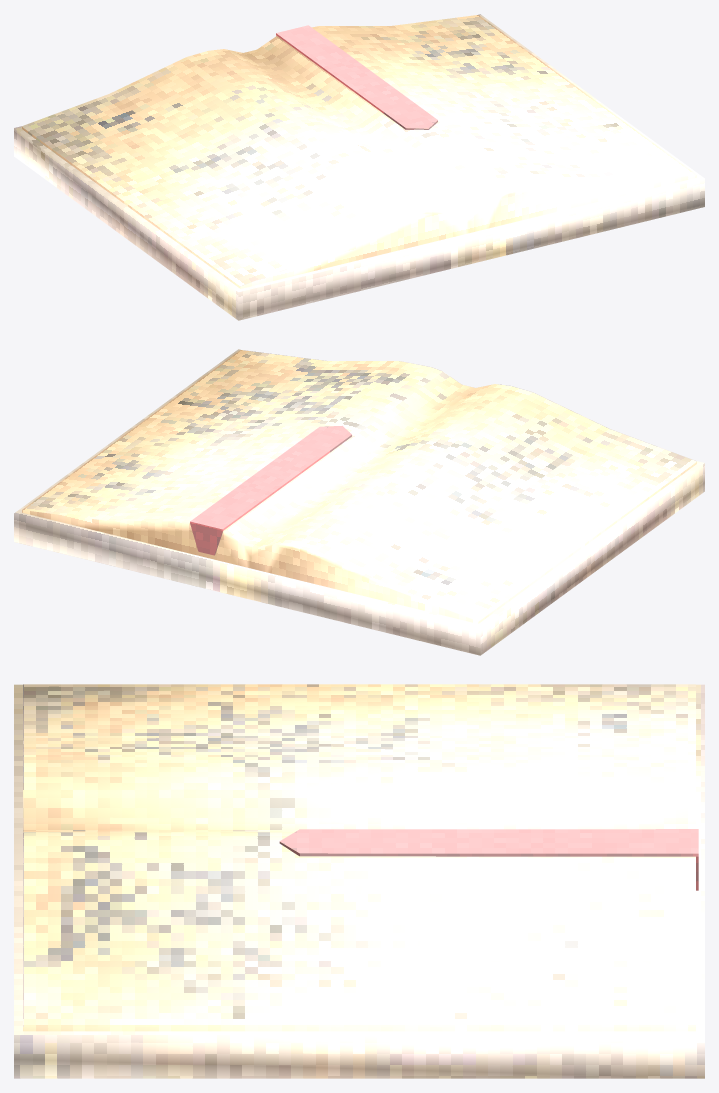
File: book_3.glb
3 renders of one model, top to bottom at view 1: azimuth 30°, elevation 25°; view 2: azimuth 150°, elevation 25°; view 3: azimuth 270°, elevation 25°, orthographic. The views are drawn at different scales.
Visible parts, largest first — view 1: Book_3; view 2: Book_3; view 3: Book_3.
Boxes of the visible parts, bbox=[...] form: Book_3: bbox=[14, 14, 704, 320]; Book_3: bbox=[14, 349, 704, 655]; Book_3: bbox=[14, 684, 704, 1078].
Bounding box in the file's own units: 2.04 × 0.257 × 1.7.
